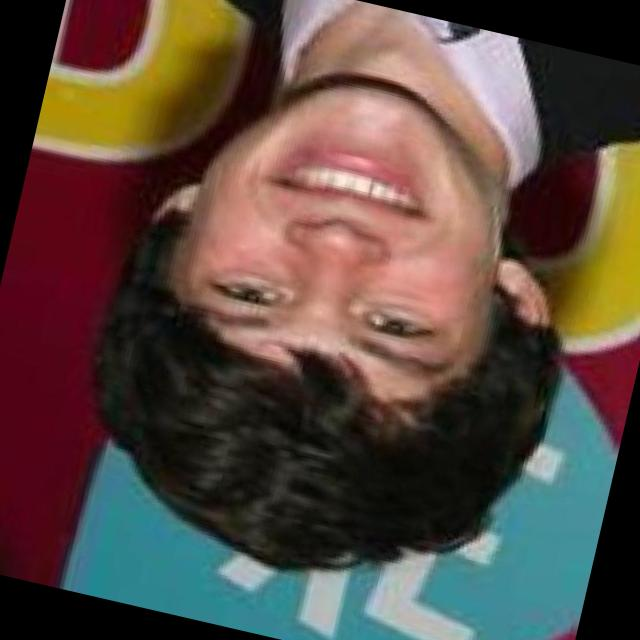bareface: (89, 55, 558, 580)
